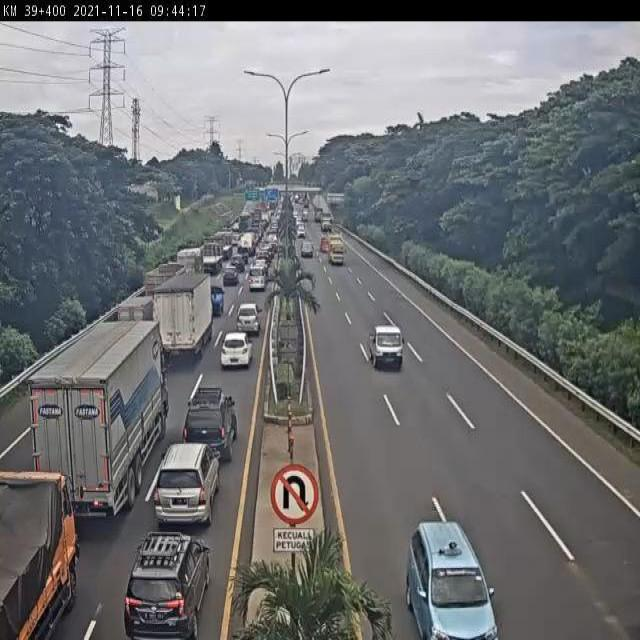car: (401, 520, 494, 640), (125, 527, 204, 633), (158, 433, 219, 527), (181, 383, 245, 460), (368, 324, 407, 375), (223, 327, 265, 365), (236, 302, 257, 334), (248, 263, 268, 296), (221, 260, 243, 288)
small truck: (328, 241, 346, 271)
truck-l-: (28, 318, 169, 522)
truck-m-: (0, 470, 87, 640), (150, 270, 216, 362)
